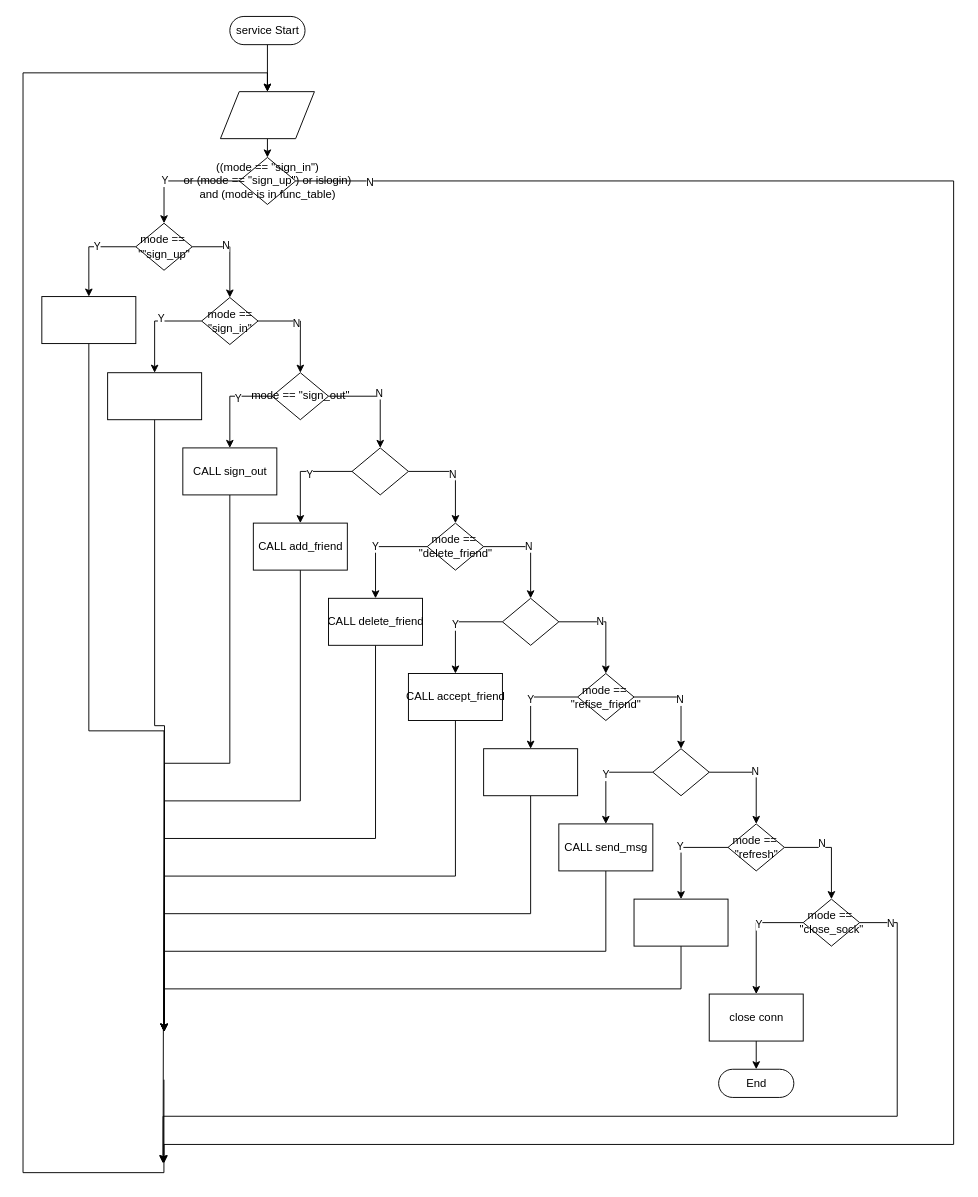
Some shapes in this 978 by 1197 pixel diagram are drawn without their labels. Here are the shapes that lost their labels. From the top down, the centre of each, then its label:
[266,115]: INPUT mode
[88,320]: CALL sign_up
[154,396]: CALL sign_in
[379,471]: mode == "add_friend"
[530,621]: mode == "accept_friend"
[530,772]: CALL refuse_friend
[680,772]: mode == "send_msg"
[680,922]: CALL refresh
